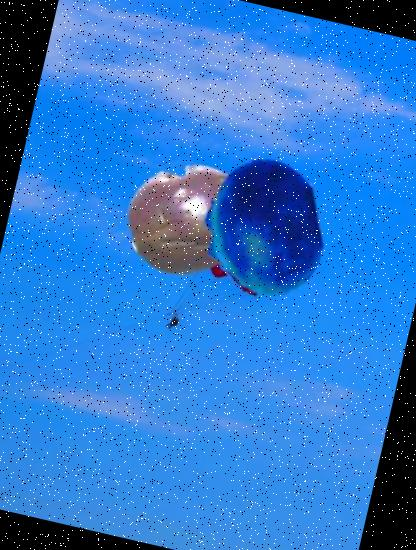Huckleberry: (178, 144, 346, 312)
Passion: (113, 143, 266, 295)
